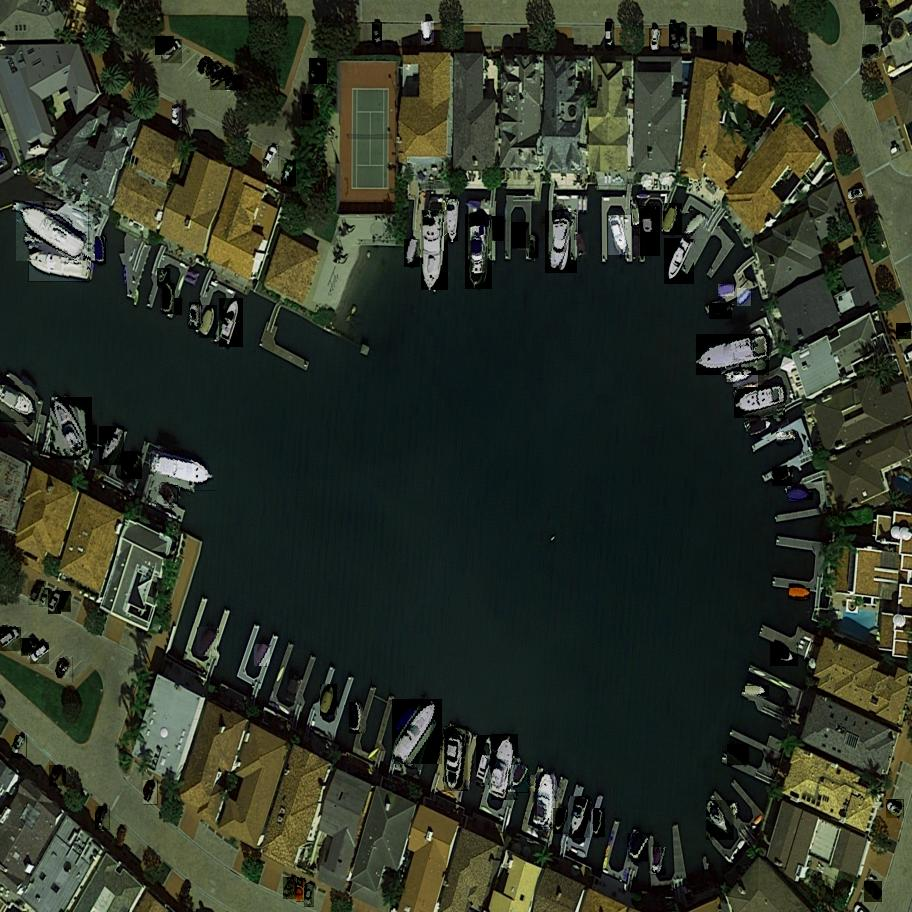large-vehicle: (421, 21, 437, 46)
ship: (15, 201, 91, 261), (692, 334, 773, 376), (391, 700, 443, 765), (148, 451, 221, 491), (51, 398, 94, 459), (422, 210, 449, 291), (545, 210, 579, 274), (465, 214, 492, 291), (733, 385, 790, 419), (27, 253, 92, 282), (491, 734, 519, 800), (444, 727, 469, 791), (664, 238, 695, 286), (0, 385, 40, 422), (704, 800, 737, 840), (218, 299, 244, 348), (476, 736, 500, 786), (98, 427, 126, 466), (537, 773, 556, 827), (641, 207, 661, 258), (608, 214, 632, 256), (568, 797, 592, 838), (731, 357, 760, 387), (768, 642, 800, 666), (682, 213, 709, 240), (196, 627, 220, 656), (198, 305, 218, 339), (121, 451, 144, 480), (628, 834, 651, 862), (663, 203, 683, 235), (320, 685, 339, 716), (510, 765, 531, 793), (512, 222, 532, 251), (155, 483, 178, 507), (726, 745, 751, 767), (393, 712, 414, 735), (405, 239, 421, 268), (651, 847, 667, 876), (770, 467, 794, 486), (747, 422, 773, 439), (447, 200, 458, 240), (553, 808, 569, 835), (162, 283, 175, 314), (253, 644, 271, 666), (350, 703, 363, 732), (708, 304, 733, 319), (575, 232, 589, 258), (630, 200, 643, 227), (737, 288, 754, 306), (96, 237, 107, 264), (593, 809, 604, 836), (493, 217, 505, 241), (190, 303, 201, 329), (158, 268, 172, 287), (788, 490, 812, 501), (87, 425, 97, 449), (746, 686, 768, 696), (789, 588, 810, 598), (776, 433, 795, 444), (718, 285, 736, 296), (530, 235, 537, 257), (175, 299, 183, 315), (731, 803, 740, 816)
small-vehicle: (160, 39, 186, 65), (209, 67, 236, 90), (54, 657, 77, 683), (0, 628, 24, 652), (28, 642, 51, 665), (309, 59, 329, 85), (262, 145, 281, 171), (862, 881, 884, 903), (27, 582, 47, 605), (153, 36, 176, 56), (11, 735, 30, 759), (281, 160, 297, 186), (283, 877, 301, 900), (95, 807, 112, 831), (143, 780, 159, 805), (197, 55, 215, 77), (20, 638, 41, 656), (885, 800, 906, 818), (864, 8, 884, 26), (49, 766, 66, 787), (48, 591, 63, 614), (115, 824, 128, 850), (224, 75, 245, 91), (703, 28, 718, 50), (205, 63, 225, 79), (302, 94, 314, 120), (669, 24, 681, 50), (58, 592, 72, 613), (650, 28, 662, 51), (39, 588, 53, 607), (605, 23, 615, 48), (172, 106, 183, 128), (678, 24, 689, 45), (304, 883, 314, 906), (372, 22, 382, 45), (862, 46, 879, 59), (296, 878, 305, 901), (848, 189, 865, 201), (734, 33, 743, 52)
